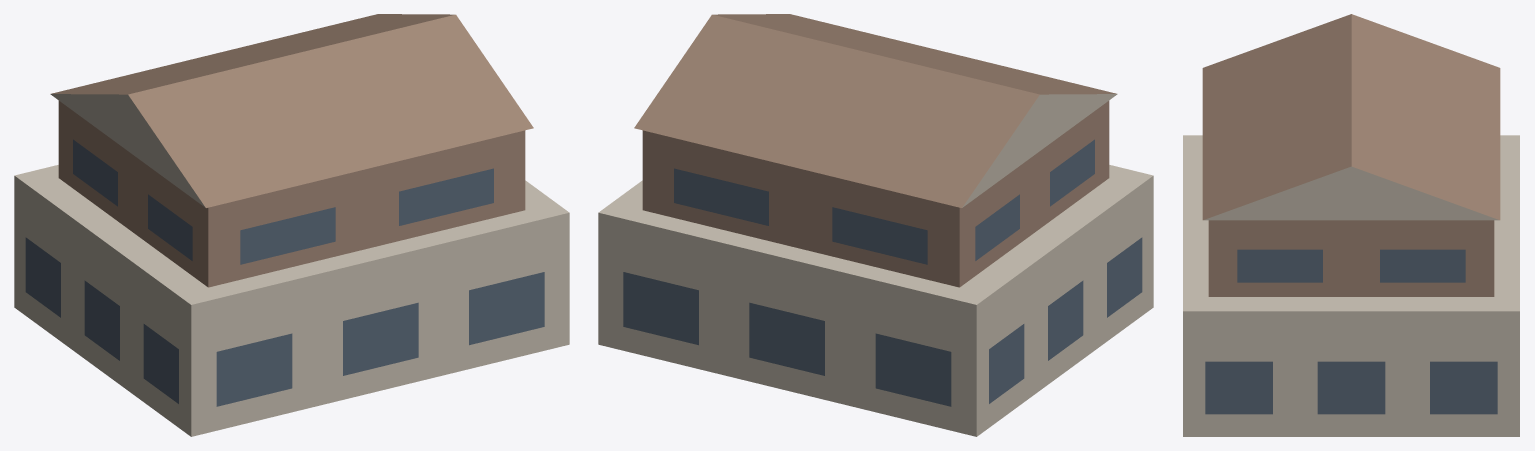
The model's file is house_07_mansard_homestead.glb.
The picture shows the model from 3 angles, left to right: view 1: azimuth 30°, elevation 25°; view 2: azimuth 150°, elevation 25°; view 3: azimuth 270°, elevation 25°; orthographic projection. The views are drawn at different scales.
Visible parts, largest first — view 1: house_07_mansard_homestead; view 2: house_07_mansard_homestead; view 3: house_07_mansard_homestead.
Part boxes in pixels (x1,y1,x2,y2): house_07_mansard_homestead: (14,14,569,436); house_07_mansard_homestead: (598,14,1153,436); house_07_mansard_homestead: (1183,14,1519,436).
Bounding box in the file's own units: 10.53 × 7.2 × 8.53.
